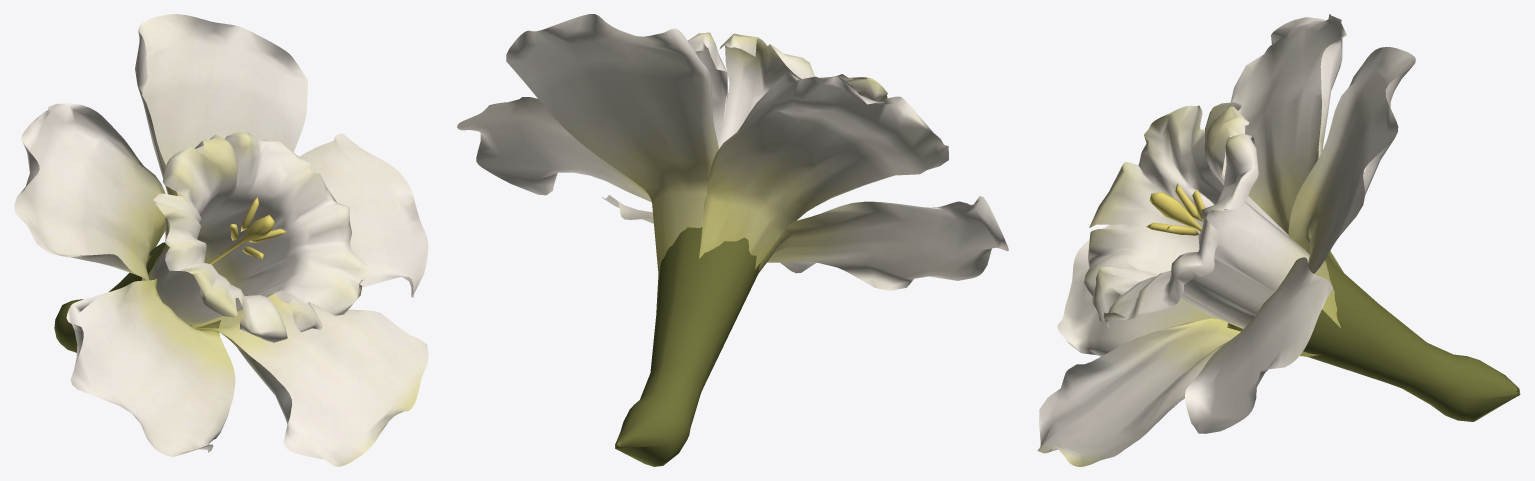
3 renders of one model, left to right at view 1: azimuth 30°, elevation 25°; view 2: azimuth 150°, elevation 25°; view 3: azimuth 270°, elevation 25°, orthographic. The views are drawn at different scales.
Parts seen in each view (by area): view 1: G-Ellipse164 70% 70% 70% 70%.010; view 2: G-Ellipse164 70% 70% 70% 70%.010; view 3: G-Ellipse164 70% 70% 70% 70%.010.
Boxes of the visible parts, left/top/right/bottom form: G-Ellipse164 70% 70% 70% 70%.010: left=14, top=14, right=428, bottom=466; G-Ellipse164 70% 70% 70% 70%.010: left=457, top=14, right=1008, bottom=466; G-Ellipse164 70% 70% 70% 70%.010: left=1037, top=14, right=1520, bottom=466.
Size of the model in its own units: 1.2 by 0.9631 by 1.09.
Materials: 3 (1 with a texture image).
